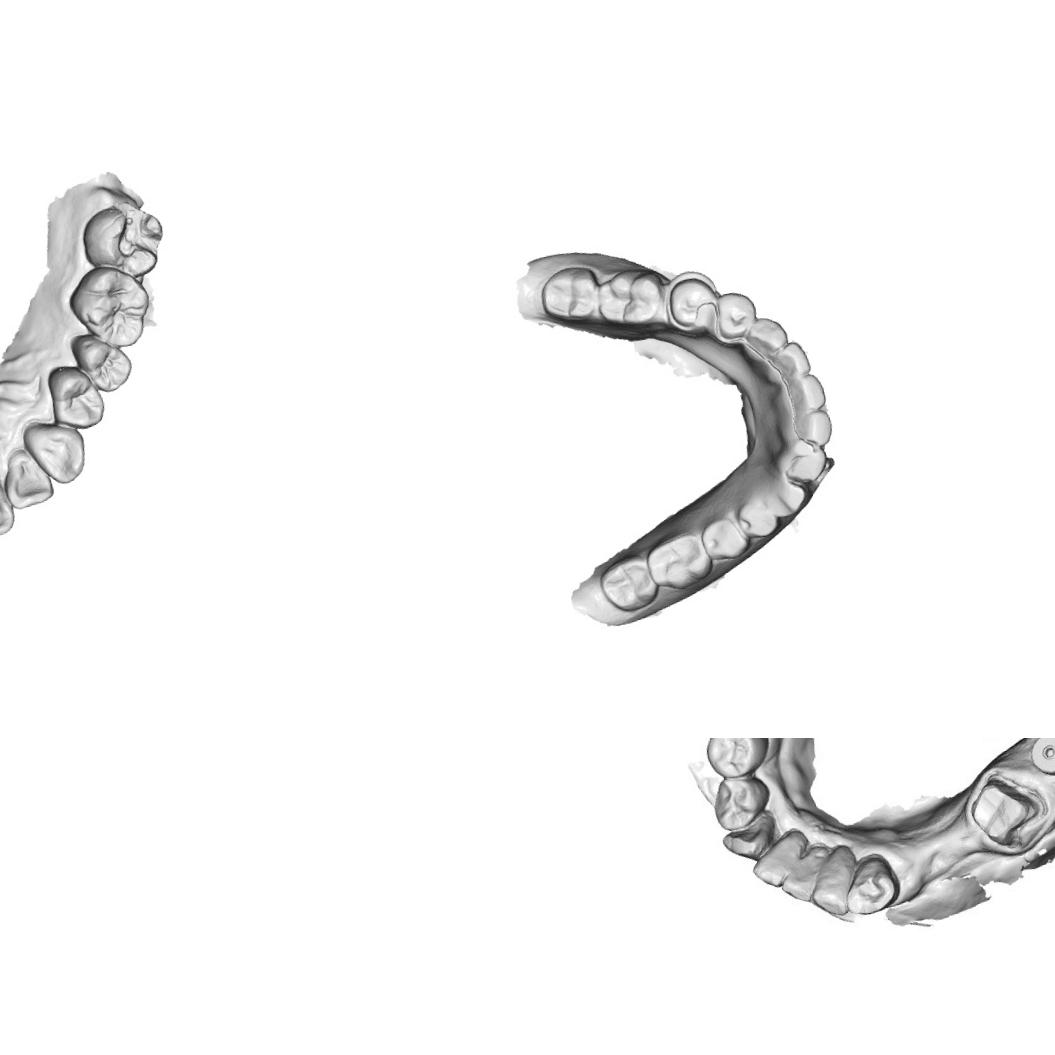canine: (18, 412, 92, 490), (840, 855, 903, 922), (740, 312, 790, 363), (718, 824, 776, 863), (762, 473, 808, 519)
crown: (958, 764, 1048, 852)
implant: (1023, 738, 1055, 779)
incisor: (800, 845, 864, 923), (0, 441, 57, 511), (773, 843, 832, 907), (746, 834, 810, 893), (778, 435, 831, 486), (766, 338, 812, 382), (784, 370, 828, 415), (790, 407, 836, 448), (0, 462, 17, 544)
molar: (62, 256, 156, 355), (76, 194, 173, 286), (590, 263, 668, 331), (642, 528, 716, 594), (534, 262, 604, 328), (595, 550, 662, 616)
premolar: (66, 325, 136, 398), (42, 358, 108, 434), (708, 770, 777, 836), (664, 271, 722, 334), (698, 738, 778, 783), (697, 512, 752, 564), (710, 287, 760, 343), (734, 499, 780, 542)
